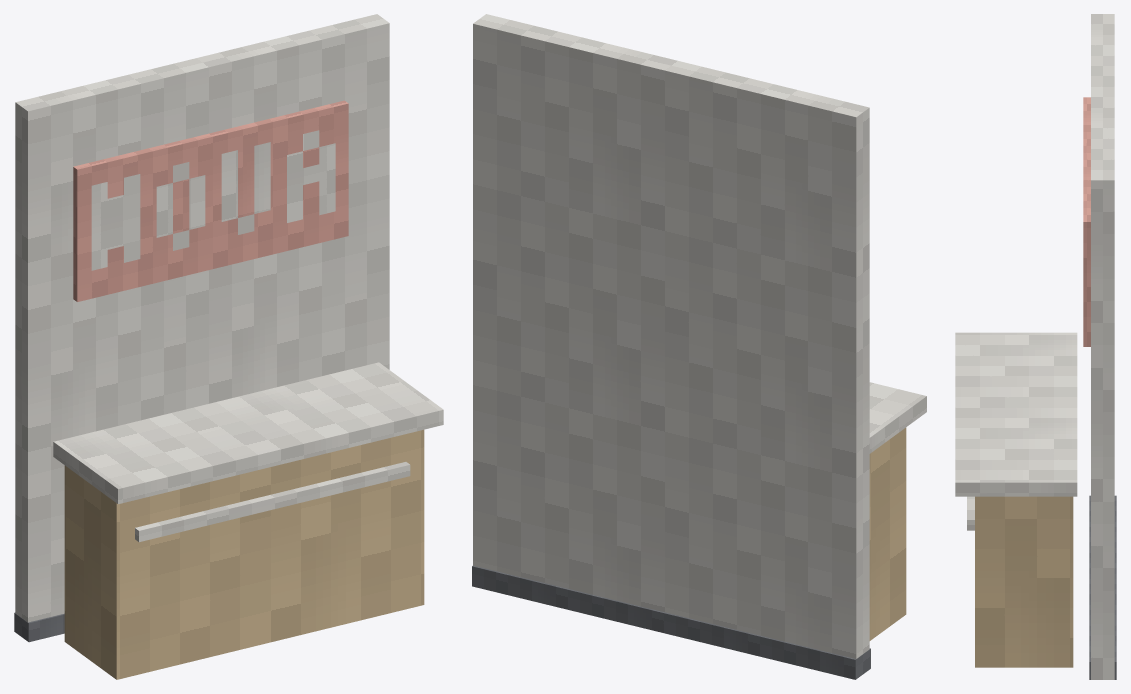
File: pixel-modern-office-reception-desk-wall-ddd60aec.glb
3 renders of one model, left to right at view 1: azimuth 30°, elevation 25°; view 2: azimuth 150°, elevation 25°; view 3: azimuth 270°, elevation 25°, orthographic. The views are drawn at different scales.
Visible parts, largest first — view 1: reception-desk-wall; view 2: reception-desk-wall; view 3: reception-desk-wall.
Boxes of the visible parts, x1,y1,x2,y2 form: reception-desk-wall: (14, 14, 443, 679); reception-desk-wall: (472, 14, 926, 679); reception-desk-wall: (955, 14, 1116, 679).
Bounding box in the file's own units: 2 × 2.8 × 0.82.
4 materials, 4 textured.
